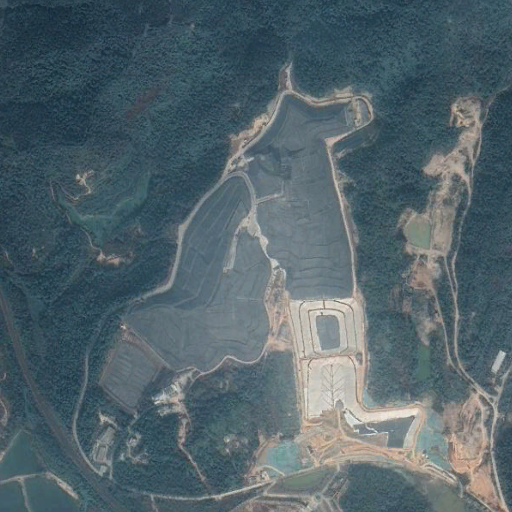lf: (129, 171, 270, 370), (245, 90, 372, 301)
